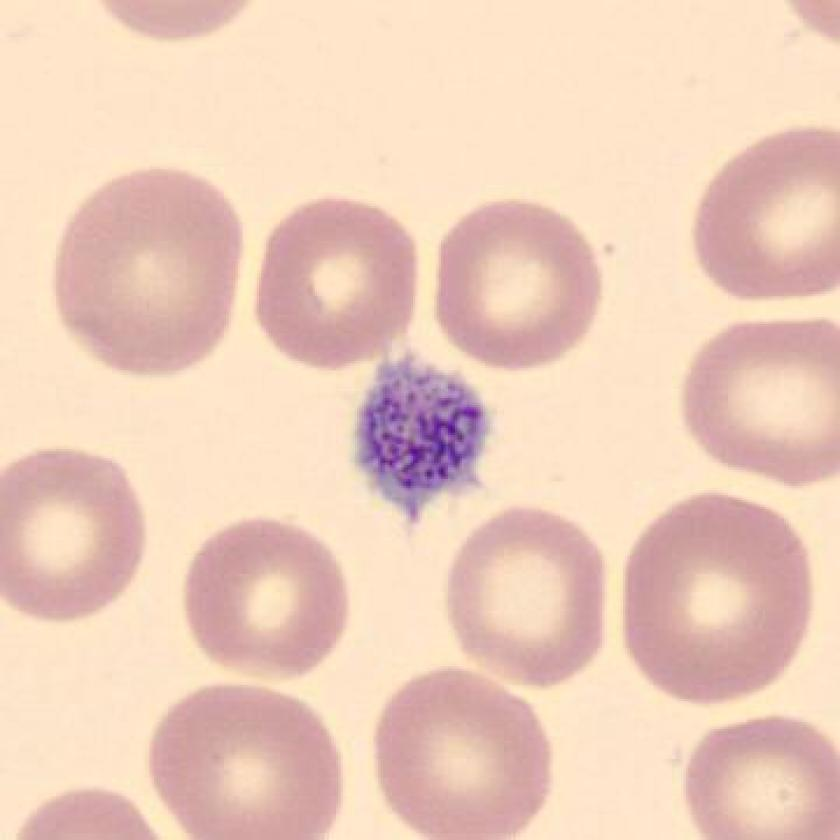platelets: (342, 348, 493, 526)
